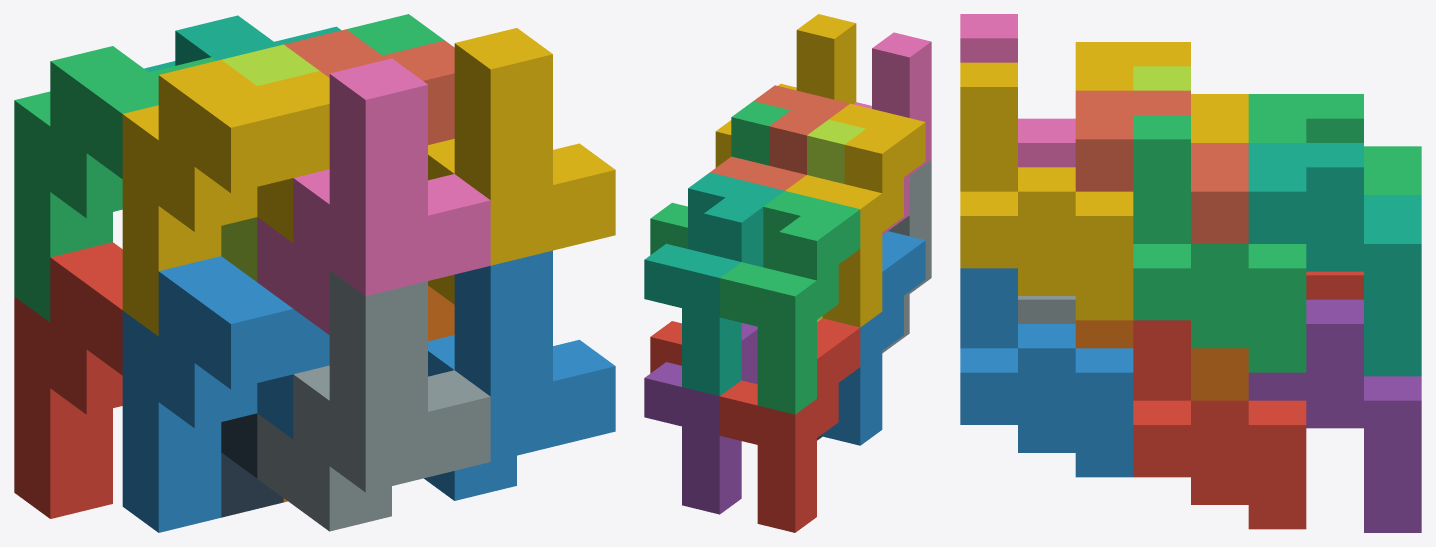
The model's file is tiling.obj.
3 renders of one model, left to right at view 1: azimuth 30°, elevation 25°; view 2: azimuth 150°, elevation 25°; view 3: azimuth 270°, elevation 25°, orthographic. The views are drawn at different scales.
Visible parts, largest first — view 1: copy_1_domain_2, copy_2_domain_2, copy_2_domain_4, copy_1_domain_4, copy_2_domain_8, copy_2_domain_6, copy_1_domain_1, copy_1_domain_3, copy_1_domain_8, copy_2_domain_3, copy_2_domain_1, copy_1_domain_7 (+2 smaller); view 2: copy_1_domain_3, copy_1_domain_7, copy_1_domain_1, copy_1_domain_4, copy_1_domain_5, copy_1_domain_2, copy_1_domain_8, copy_2_domain_8, copy_2_domain_4, copy_2_domain_7, copy_2_domain_2, copy_2_domain_3 (+1 smaller); view 3: copy_2_domain_8, copy_2_domain_7, copy_2_domain_6, copy_1_domain_7, copy_2_domain_5, copy_1_domain_5, copy_1_domain_8, copy_1_domain_3, copy_1_domain_4, copy_2_domain_4, copy_1_domain_6, copy_1_domain_1 (+2 smaller).
Boxes of the visible parts, <box> form: copy_1_domain_2: <box>122,256,329,532</box>; copy_2_domain_2: <box>257,270,490,531</box>; copy_2_domain_4: <box>257,58,490,334</box>; copy_1_domain_4: <box>122,60,329,336</box>; copy_2_domain_8: <box>428,28,615,304</box>; copy_2_domain_6: <box>424,250,615,500</box>; copy_1_domain_1: <box>14,242,122,518</box>; copy_1_domain_3: <box>14,46,216,322</box>; copy_1_domain_8: <box>284,29,454,144</box>; copy_2_domain_3: <box>221,44,319,281</box>; copy_2_domain_1: <box>221,413,283,517</box>; copy_1_domain_7: <box>144,15,340,72</box>; copy_1_domain_3: <box>719,191,860,414</box>; copy_1_domain_7: <box>644,172,784,396</box>; copy_1_domain_1: <box>719,318,860,532</box>; copy_1_domain_4: <box>785,103,925,327</box>; copy_1_domain_5: <box>644,323,757,514</box>; copy_1_domain_2: <box>822,231,925,445</box>; copy_1_domain_8: <box>710,85,849,190</box>; copy_2_domain_8: <box>715,14,856,167</box>; copy_2_domain_4: <box>853,32,931,234</box>; copy_2_domain_7: <box>650,101,790,254</box>; copy_2_domain_2: <box>882,160,931,353</box>; copy_2_domain_3: <box>807,119,865,322</box>; copy_2_domain_8: <box>960,62,1133,320</box>; copy_2_domain_7: <box>1133,115,1306,372</box>; copy_2_domain_6: <box>960,268,1133,477</box>; copy_1_domain_7: <box>1248,143,1421,376</box>; copy_2_domain_5: <box>1133,320,1306,529</box>; copy_1_domain_5: <box>1248,299,1421,532</box>; copy_1_domain_8: <box>1075,90,1248,243</box>; copy_1_domain_3: <box>1248,94,1421,194</box>; copy_1_domain_4: <box>1075,42,1248,142</box>; copy_2_domain_4: <box>960,14,1075,167</box>; copy_1_domain_6: <box>1075,320,1248,400</box>; copy_1_domain_1: <box>1306,271,1363,299</box>.
Bounding box in the file's own units: 5 × 9 × 8.
